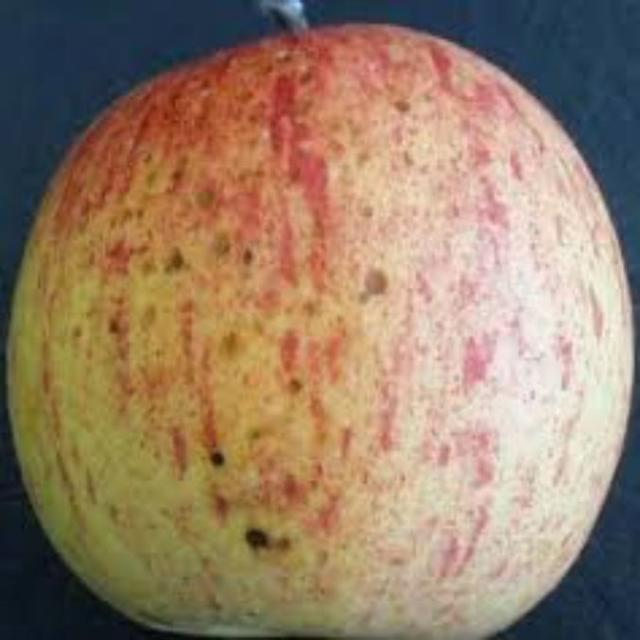Rotten Apple: (9, 4, 622, 624)
